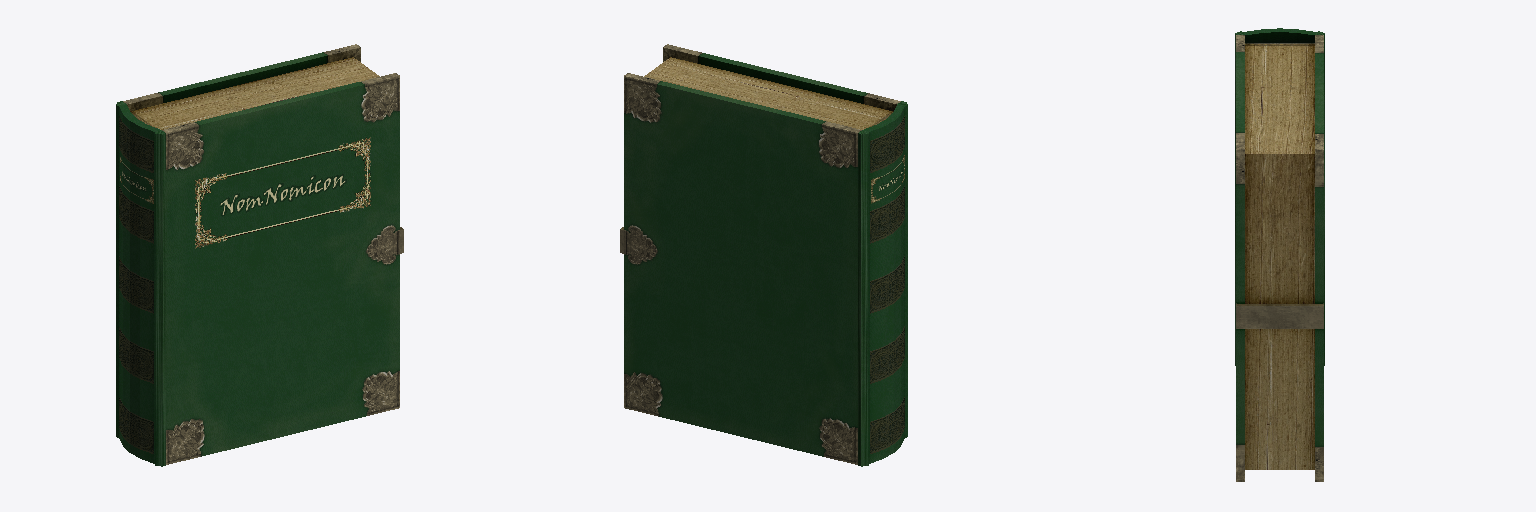
3 views of the same model, side by side, from view 1: azimuth 30°, elevation 25°; view 2: azimuth 150°, elevation 25°; view 3: azimuth 270°, elevation 25° (orthographic).
Parts seen in each view (by area): view 1: Default; view 2: Default; view 3: Default.
Part boxes in pixels (x1,y1,x2,y2): Default: (116, 44, 403, 466); Default: (620, 44, 907, 466); Default: (1235, 28, 1324, 481).
Size of the model in its own units: 0.3343 by 0.42 by 0.1034.
Materials: 1 (1 with a texture image).